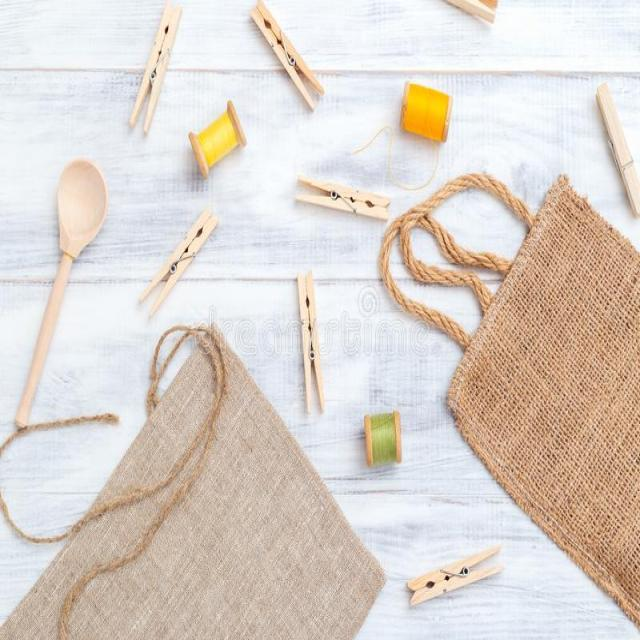clothes: (0, 287, 380, 640), (395, 155, 640, 614)
